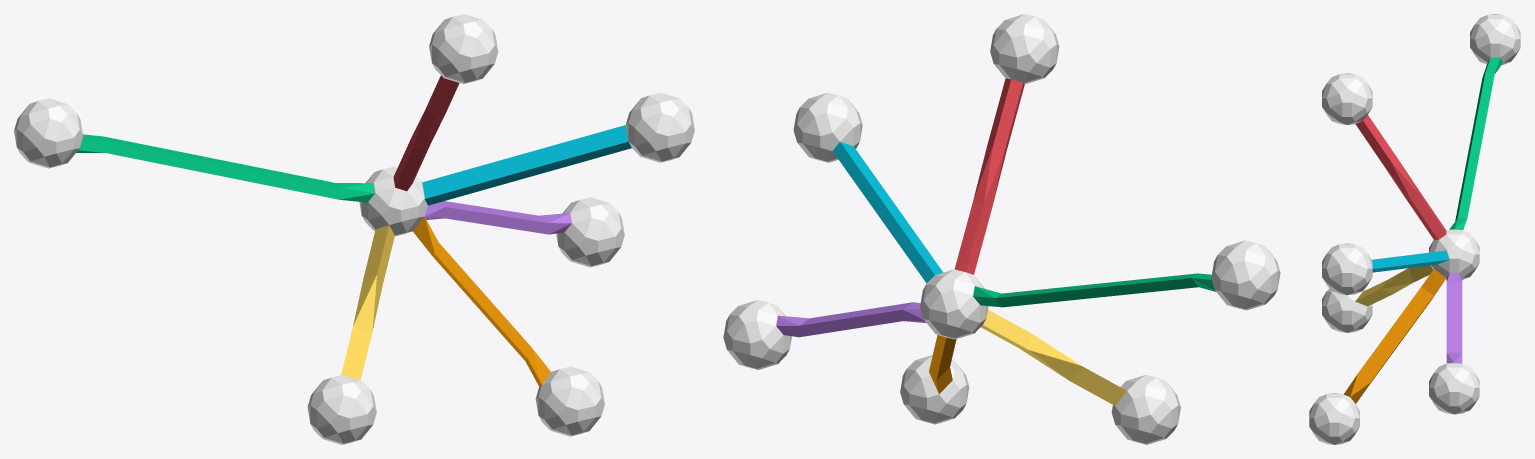
Rendered from vZome-Z-explode.glb.
3 views of the same model, side by side, from view 1: azimuth 30°, elevation 25°; view 2: azimuth 150°, elevation 25°; view 3: azimuth 270°, elevation 25° (orthographic). The views are drawn at different scales.
Parts seen in each view (by area): view 1: instance11, instance9, instance4, instance7, instance8, instance0, instance10, instance3, instance6, instance5, instance2, instance1 (+1 smaller); view 2: instance12, instance4, instance0, instance7, instance9, instance2, instance3, instance8, instance11, instance10, instance6, instance1 (+1 smaller); view 3: instance5, instance12, instance0, instance9, instance10, instance8, instance3, instance4, instance2, instance7, instance1, instance6 (+1 smaller).
Part boxes in pixels (x1=…): instance11: x1=422, y1=125, x2=631, y2=205; instance9: x1=76, y1=134, x2=374, y2=202; instance4: x1=14, y1=98, x2=83, y2=168; instance7: x1=307, y1=375, x2=376, y2=444; instance8: x1=625, y1=92, x2=694, y2=162; instance0: x1=429, y1=14, x2=498, y2=83; instance10: x1=535, y1=366, x2=604, y2=436; instance3: x1=556, y1=197, x2=624, y2=267; instance6: x1=341, y1=225, x2=394, y2=380; instance5: x1=412, y1=216, x2=550, y2=386; instance2: x1=359, y1=166, x2=427, y2=236; instance1: x1=424, y1=201, x2=571, y2=234; instance12: x1=954, y1=78, x2=1024, y2=274; instance4: x1=1211, y1=240, x2=1280, y2=310; instance0: x1=990, y1=14, x2=1059, y2=83; instance7: x1=1111, y1=375, x2=1180, y2=444; instance9: x1=973, y1=273, x2=1215, y2=307; instance2: x1=920, y1=269, x2=988, y2=339; instance3: x1=723, y1=300, x2=791, y2=369; instance8: x1=793, y1=92, x2=862, y2=162; instance11: x1=832, y1=142, x2=943, y2=283; instance10: x1=900, y1=355, x2=969, y2=424; instance6: x1=981, y1=309, x2=1126, y2=405; instance1: x1=776, y1=302, x2=926, y2=337; instance5: x1=1343, y1=269, x2=1446, y2=403; instance12: x1=1355, y1=115, x2=1446, y2=239; instance0: x1=1322, y1=73, x2=1372, y2=124; instance9: x1=1449, y1=57, x2=1502, y2=230; instance10: x1=1309, y1=393, x2=1359, y2=444; instance8: x1=1322, y1=243, x2=1372, y2=295; instance3: x1=1429, y1=362, x2=1479, y2=414; instance4: x1=1470, y1=14, x2=1520, y2=64; instance2: x1=1429, y1=229, x2=1479, y2=279; instance7: x1=1322, y1=288, x2=1372, y2=332; instance1: x1=1446, y1=273, x2=1462, y2=363; instance6: x1=1355, y1=265, x2=1432, y2=306.
Bounding box in the file's own units: 19.94 × 14.34 × 8.35.
